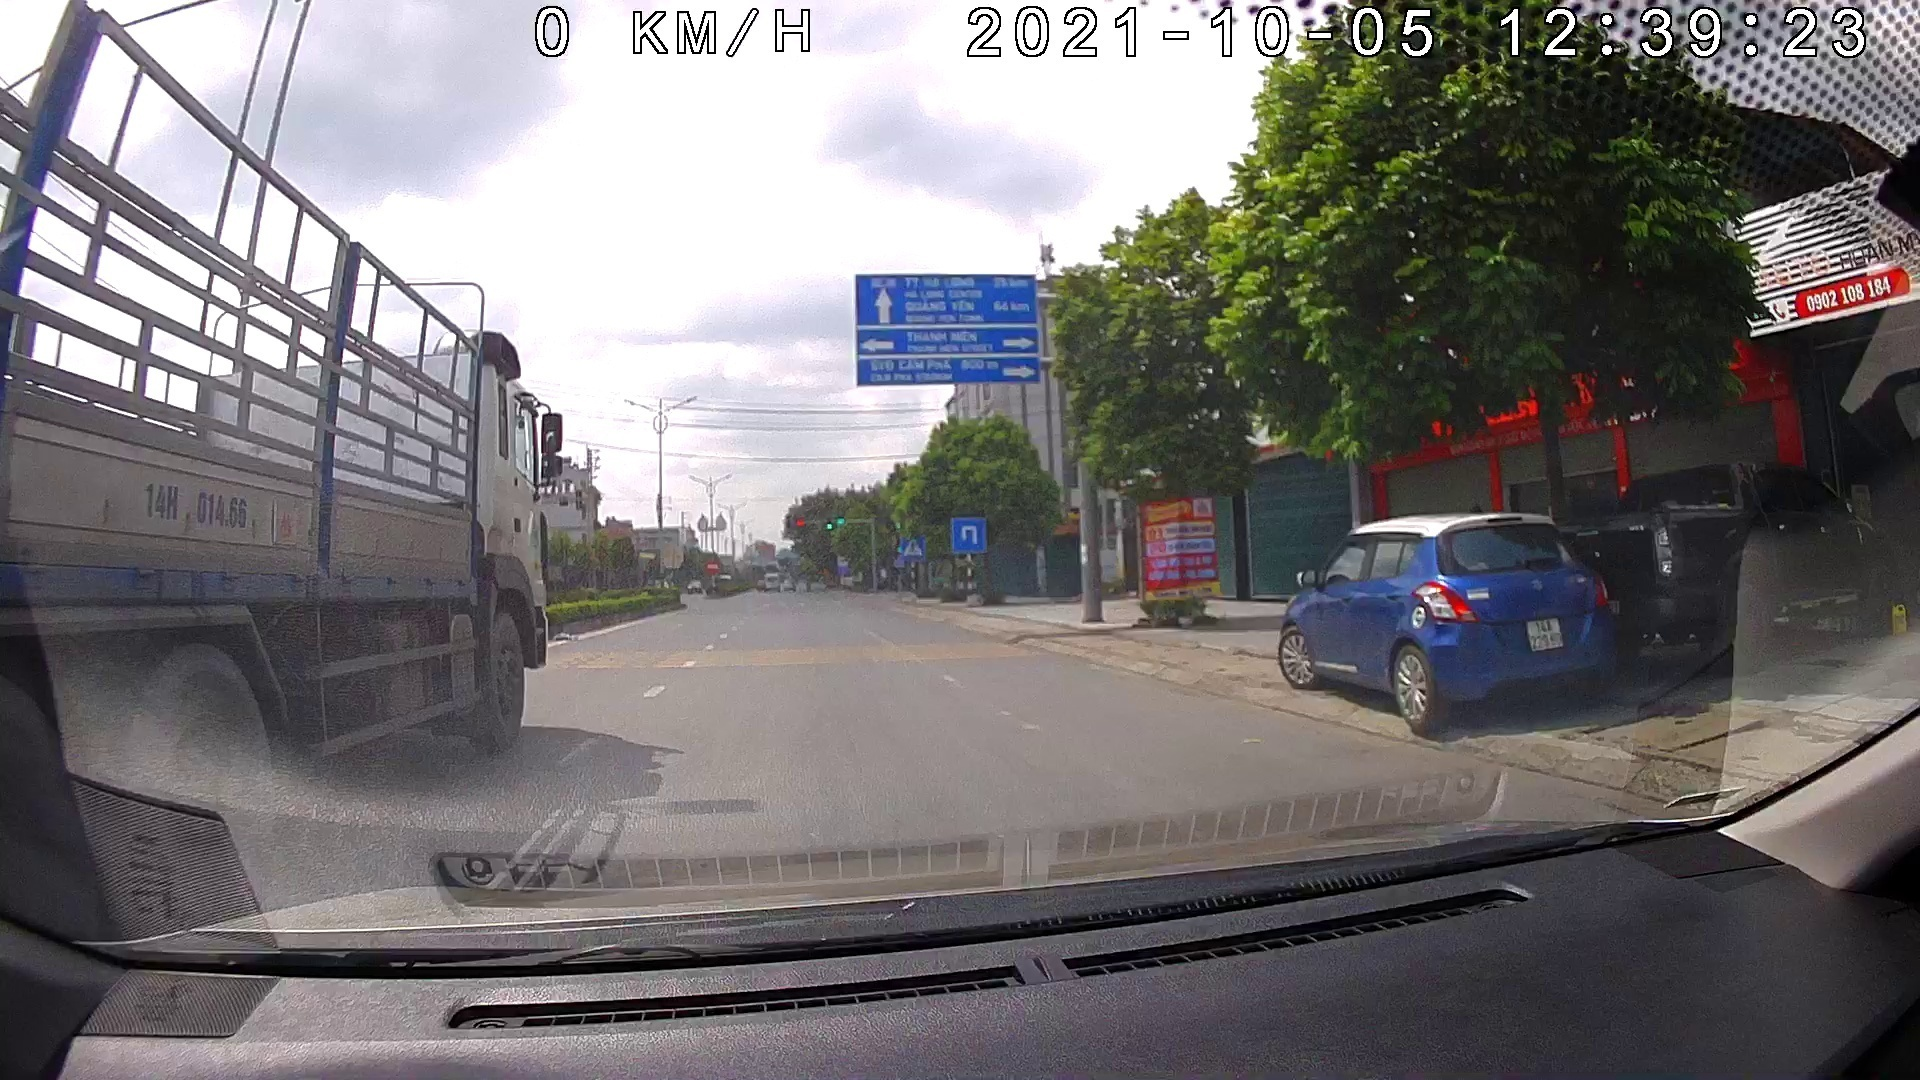Bien khac: (947, 513, 989, 553)
Cam di nguoc chieu: (705, 555, 720, 576)
Nguoi di bo: (897, 531, 924, 559)
